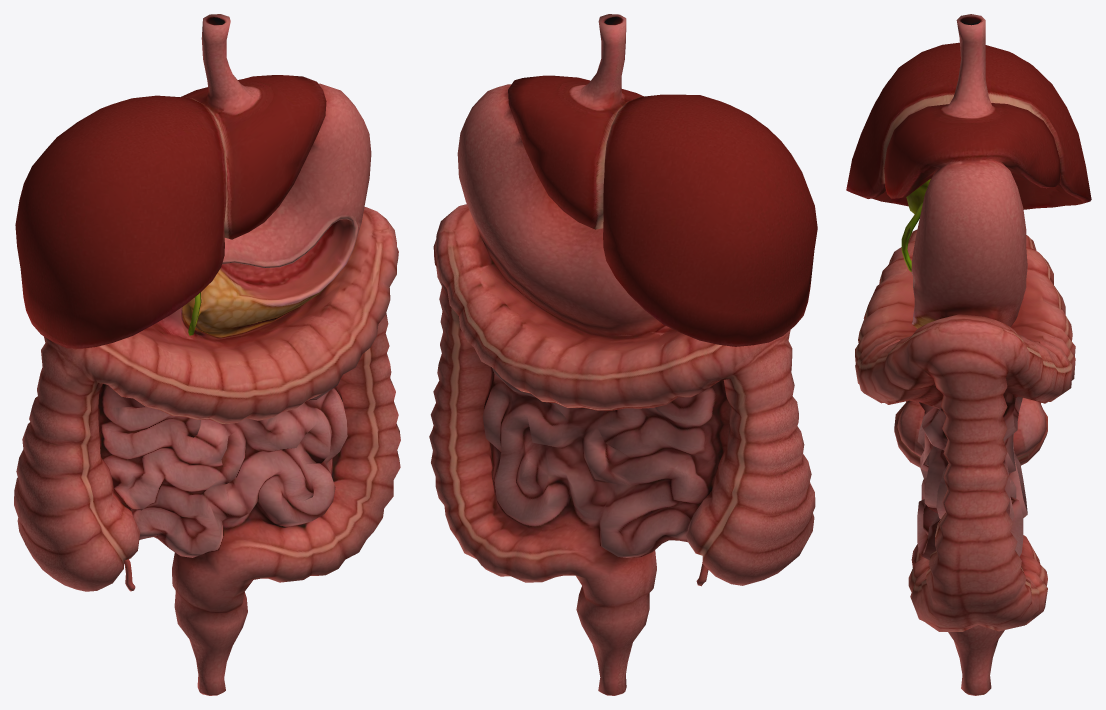
File: digestive-system-realistic.glb
3 views of the same model, side by side, from view 1: azimuth 30°, elevation 25°; view 2: azimuth 150°, elevation 25°; view 3: azimuth 270°, elevation 25° (orthographic).
Visible parts, largest first — view 1: tripo_node_89780dc0-5b72-4aed-a230-8fbfe181abbc; view 2: tripo_node_89780dc0-5b72-4aed-a230-8fbfe181abbc; view 3: tripo_node_89780dc0-5b72-4aed-a230-8fbfe181abbc.
Part boxes in pixels (left/top/right/bottom): tripo_node_89780dc0-5b72-4aed-a230-8fbfe181abbc: left=14, top=14, right=400, bottom=695; tripo_node_89780dc0-5b72-4aed-a230-8fbfe181abbc: left=429, top=14, right=817, bottom=695; tripo_node_89780dc0-5b72-4aed-a230-8fbfe181abbc: left=846, top=14, right=1091, bottom=695.
Size of the model in its own units: 0.5644 by 0.998 by 0.3301.
Materials: 1 (1 with a texture image).
